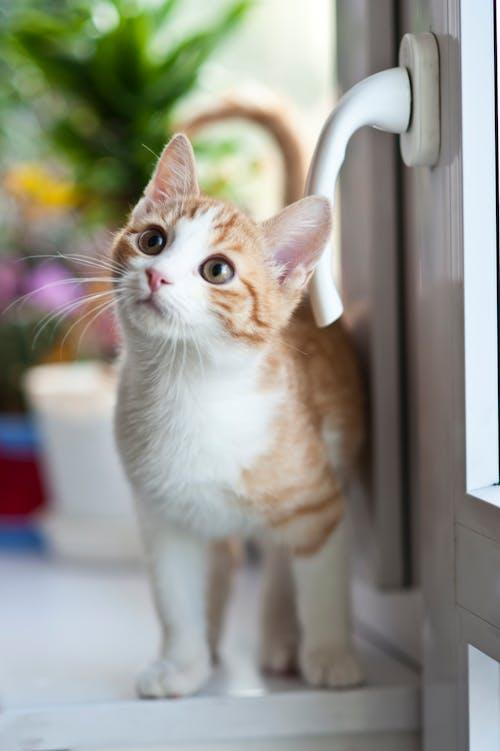kedo: (109, 137, 369, 701)
